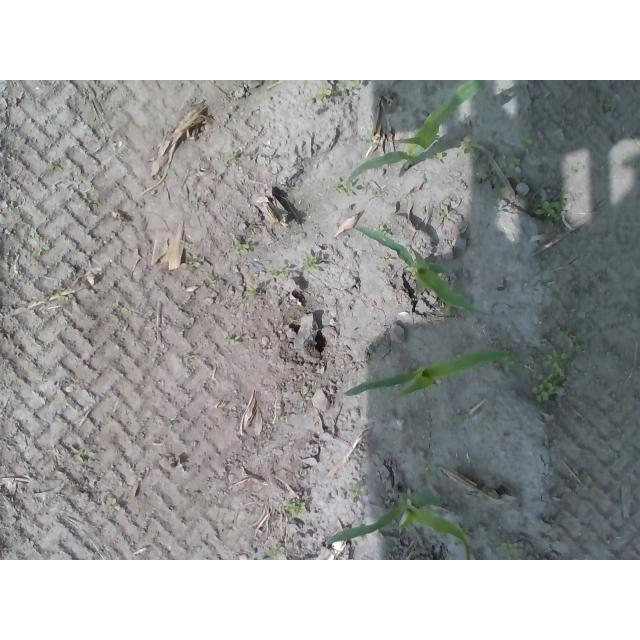Maize: (350, 223, 495, 321), (350, 80, 486, 184), (324, 488, 473, 561), (340, 349, 516, 399)
Weeds: (531, 328, 588, 404), (515, 193, 574, 225), (253, 266, 290, 282), (416, 462, 437, 486), (303, 87, 332, 103), (499, 541, 521, 560), (578, 469, 595, 493), (517, 132, 535, 152), (456, 137, 476, 155), (70, 446, 87, 466), (338, 80, 363, 93), (265, 545, 288, 559), (303, 256, 321, 273), (285, 502, 307, 515), (335, 182, 358, 194), (180, 254, 197, 270), (366, 128, 382, 145), (232, 241, 250, 256), (350, 484, 366, 500), (559, 118, 578, 131), (498, 358, 515, 372), (109, 496, 122, 512), (509, 155, 522, 169), (81, 194, 96, 206), (450, 414, 465, 426), (485, 408, 496, 424), (225, 336, 240, 347), (437, 204, 447, 220), (299, 388, 309, 404), (428, 152, 445, 161), (54, 290, 66, 302), (374, 224, 388, 234), (245, 285, 256, 297), (381, 255, 395, 264), (579, 280, 593, 289), (31, 247, 43, 257), (501, 88, 512, 98), (222, 527, 234, 536), (191, 197, 200, 208), (20, 233, 29, 243)
